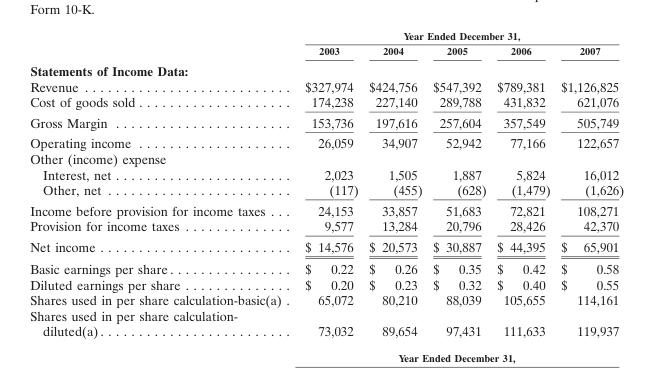table: (29, 29, 623, 338)
table column: (29, 29, 292, 338), (292, 29, 363, 338), (554, 29, 623, 338), (426, 29, 490, 338), (490, 29, 554, 338), (363, 29, 426, 338)
table column header: (29, 29, 623, 59)
table projected row header: (29, 59, 623, 78), (29, 150, 623, 166)
table row: (29, 307, 623, 338), (29, 235, 623, 257), (29, 111, 623, 132), (29, 59, 623, 78), (29, 257, 623, 276), (29, 93, 623, 111), (29, 132, 623, 150), (29, 181, 623, 199), (29, 199, 623, 217), (29, 217, 623, 235), (29, 43, 623, 59), (29, 150, 623, 166), (29, 276, 623, 292), (29, 78, 623, 93), (29, 166, 623, 181), (29, 292, 623, 307), (29, 29, 623, 43)
table spanning cell: (292, 29, 623, 43)
